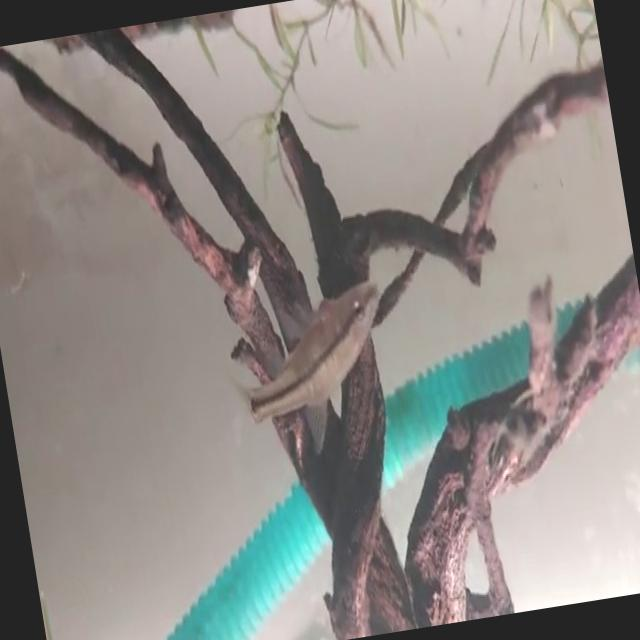Cakil Baligi: (212, 272, 400, 465)
